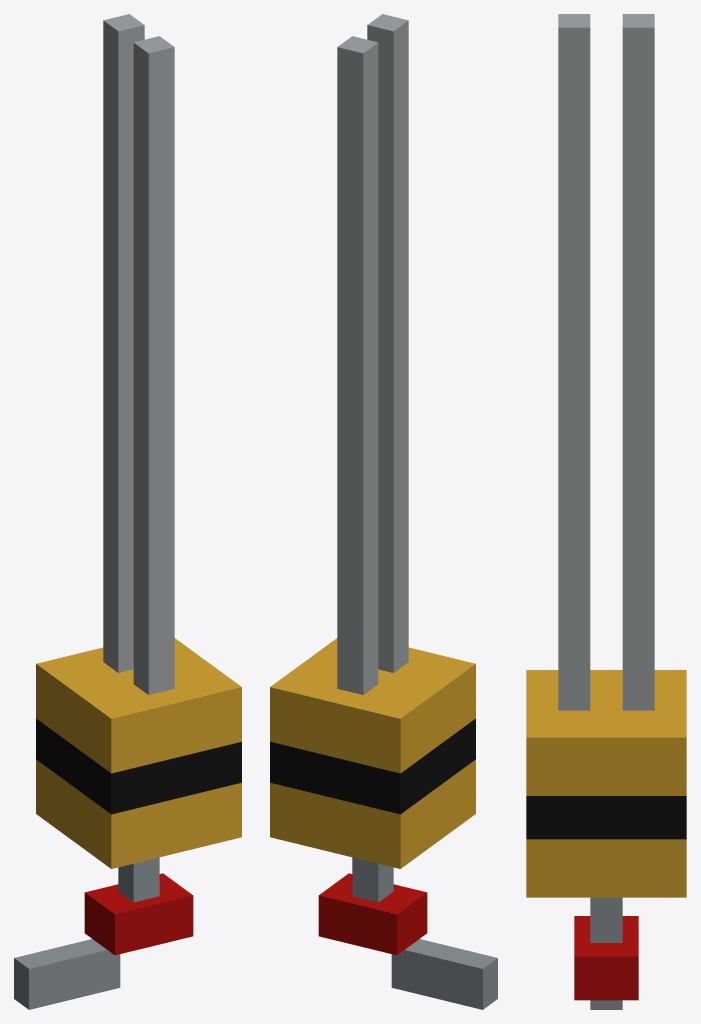
Rendered from mobile_crane_hook_block.glb.
The picture shows the model from 3 angles, left to right: view 1: azimuth 30°, elevation 25°; view 2: azimuth 150°, elevation 25°; view 3: azimuth 270°, elevation 25°; orthographic projection. The views are drawn at different scales.
Parts seen in each view (by area): view 1: body:compound; view 2: body:compound; view 3: body:compound.
Part boxes in pixels (x1,y1,x2,y2): body:compound: (14, 14, 241, 1009); body:compound: (270, 14, 497, 1009); body:compound: (526, 14, 686, 1009).
Size of the model in its own units: 0.4375 by 2.16 by 0.3125.
